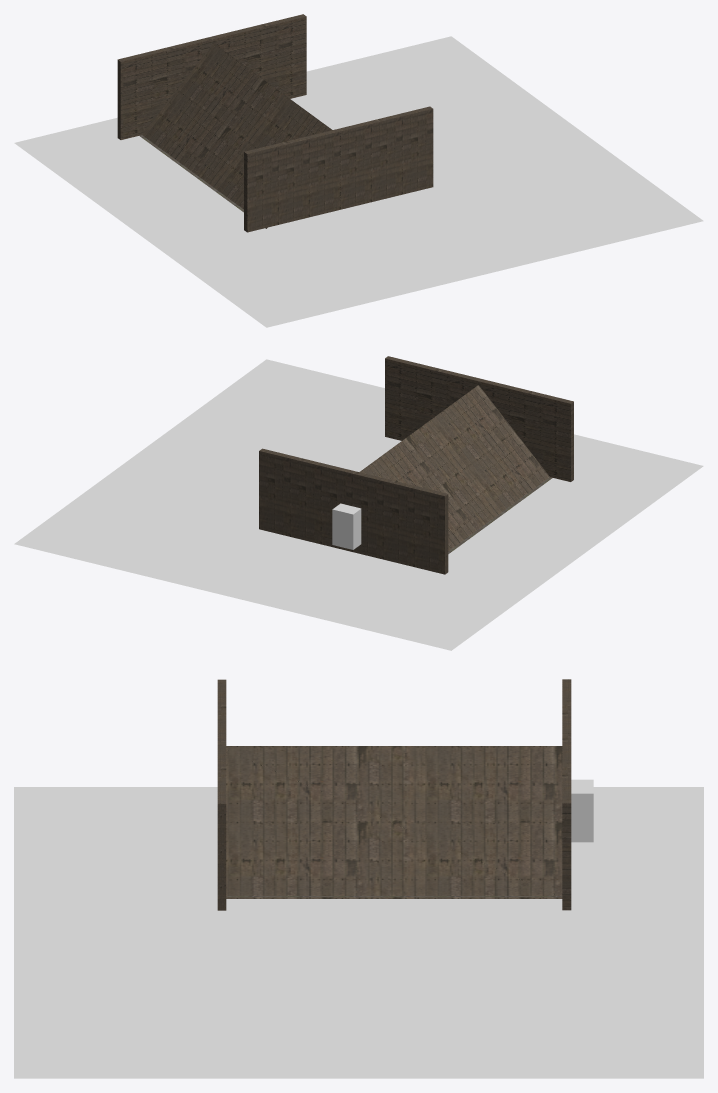
The model's file is Attic.fbx.
The picture shows the model from 3 angles, top to bottom: view 1: azimuth 30°, elevation 25°; view 2: azimuth 150°, elevation 25°; view 3: azimuth 270°, elevation 25°; orthographic projection. The views are drawn at different scales.
Parts seen in each view (by area): view 1: Plane.001, Entry_wall.094, Plane.004, Entry_wall.096; view 2: Plane.001, Entry_wall.096, Plane.004, Entry_wall.094, Cube.013; view 3: Plane.001, Plane.005, Entry_wall.096, Entry_wall.094, Cube.013.
Part boxes in pixels (<box>): Plane.001: <box>14,36,703,327</box>; Entry_wall.094: <box>244,106,433,232</box>; Plane.004: <box>140,43,332,228</box>; Entry_wall.096: <box>117,14,306,139</box>; Plane.001: <box>14,359,703,650</box>; Entry_wall.096: <box>259,448,448,574</box>; Plane.004: <box>359,385,549,551</box>; Entry_wall.094: <box>385,356,573,481</box>; Cube.013: <box>332,503,361,549</box>; Plane.001: <box>14,787,703,1078</box>; Plane.005: <box>226,746,562,898</box>; Entry_wall.096: <box>562,679,571,910</box>; Entry_wall.094: <box>217,679,226,910</box>; Cube.013: <box>571,779,593,842</box>.
Size of what is drawn, in the model's own units: 5896 by 1360 by 5896.
